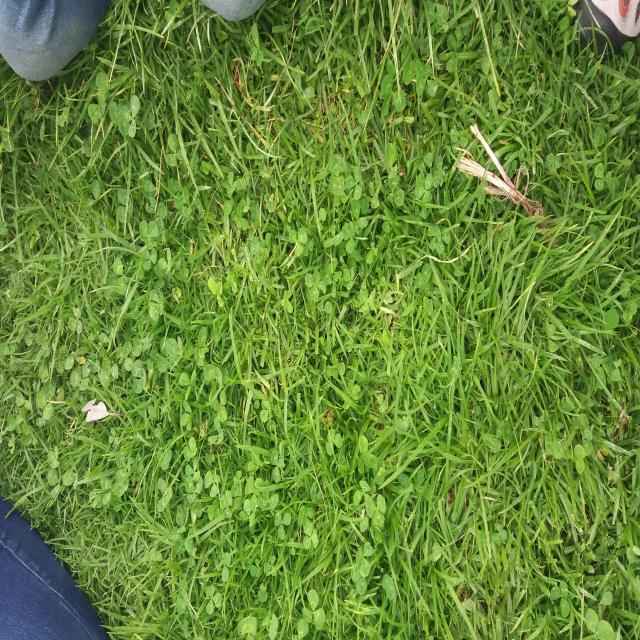Four Leaf Clover: (304, 270, 326, 301), (357, 284, 376, 314), (149, 289, 163, 321)
